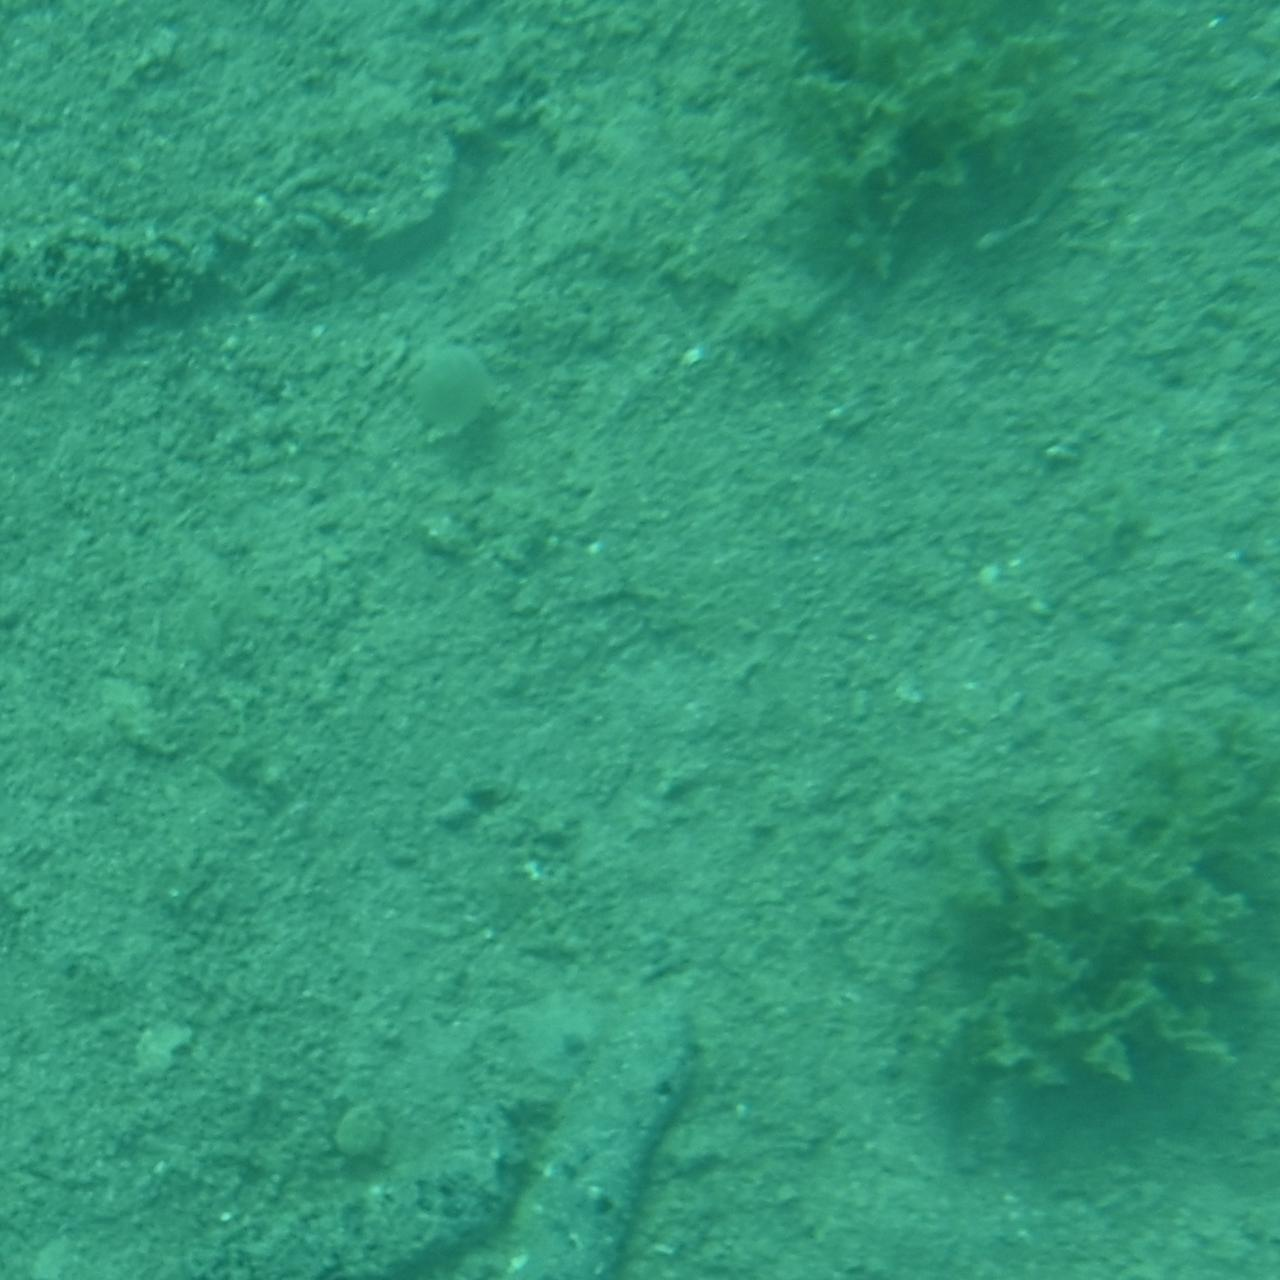Holothuria tubulosa: (0, 200, 468, 542), (508, 993, 730, 1280), (212, 1118, 533, 1280)
Phaeophyceae -cfr Cystoseira-: (905, 706, 1280, 1167), (787, 0, 1094, 328)
